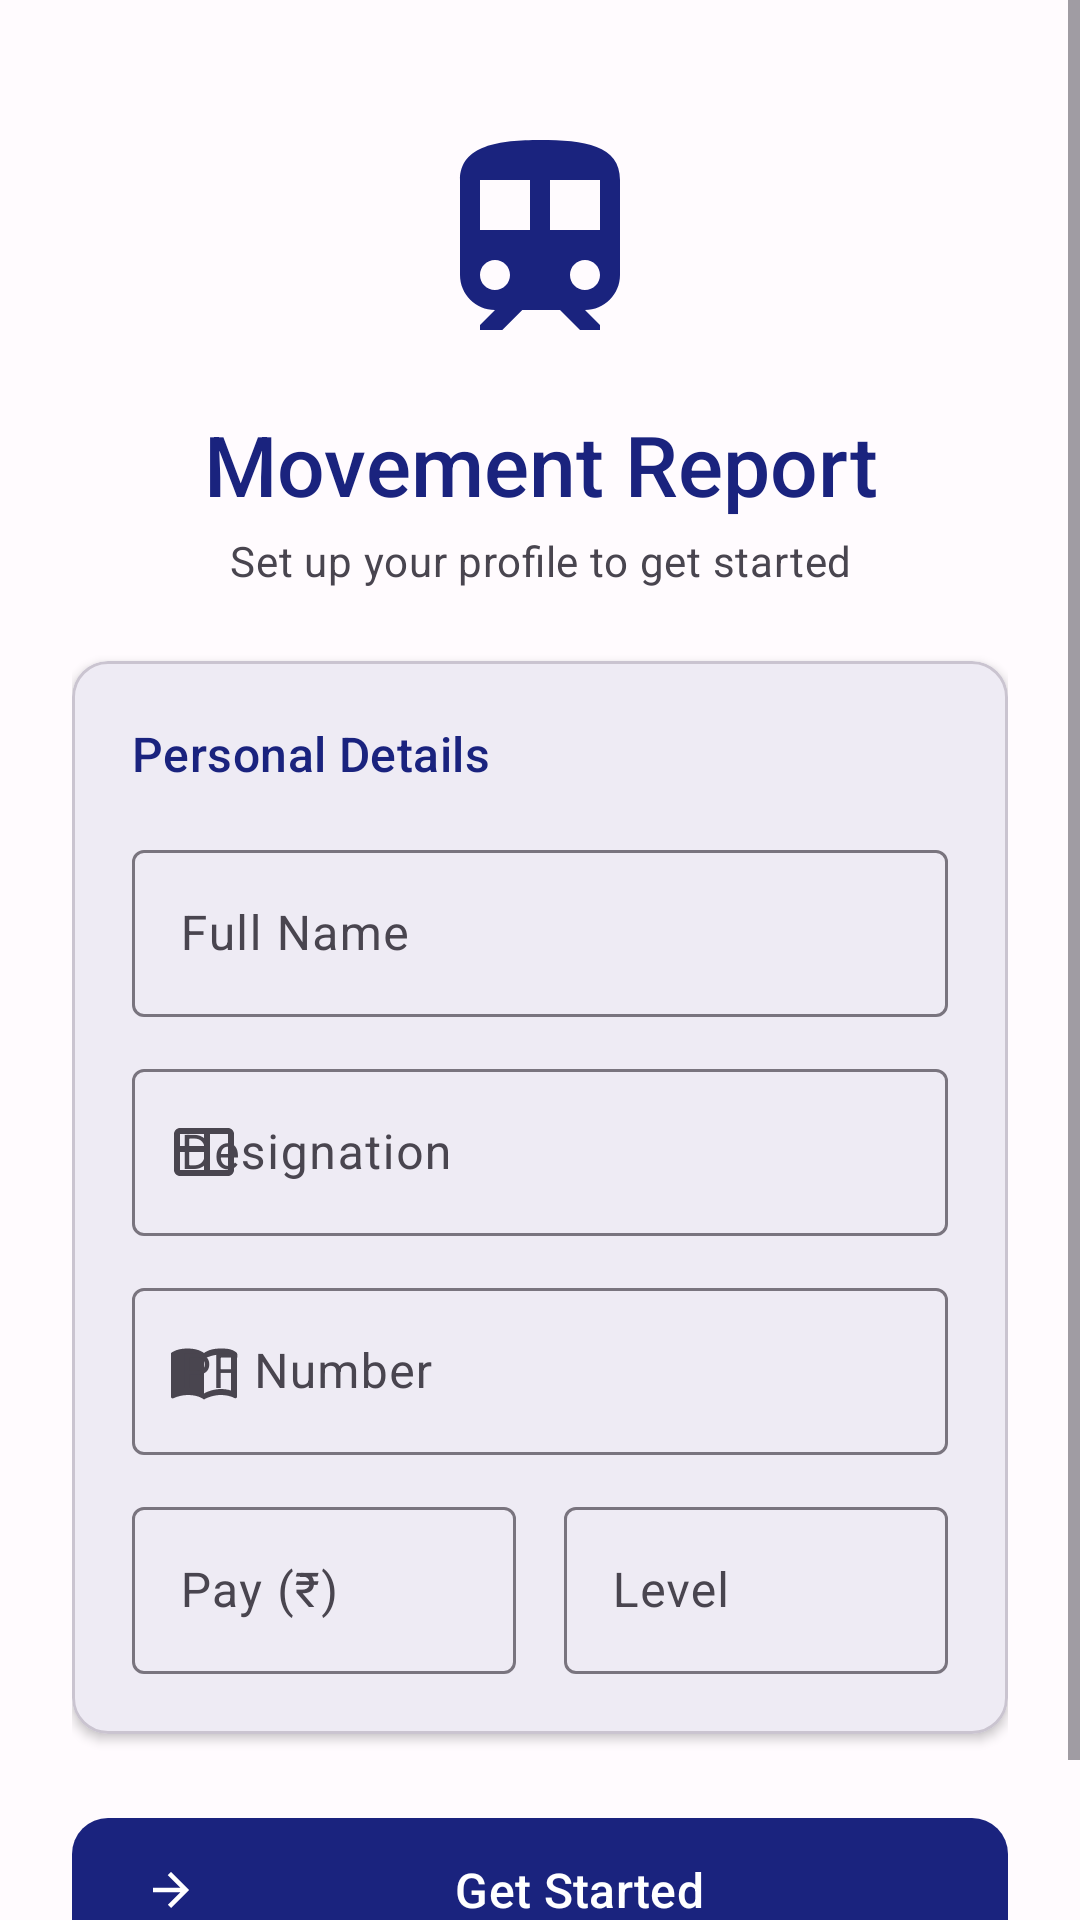

Screen size 1080 x 1920. Icon name, then its box in pixels as [x1=x1, y1=y1, x2=x2, y2=y2]:
train: [x1=460, y1=140, x2=620, y2=330]
